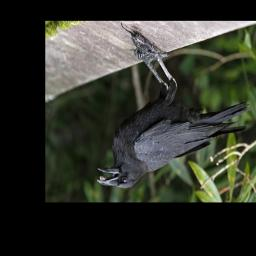Crow: (96, 42, 250, 189)
